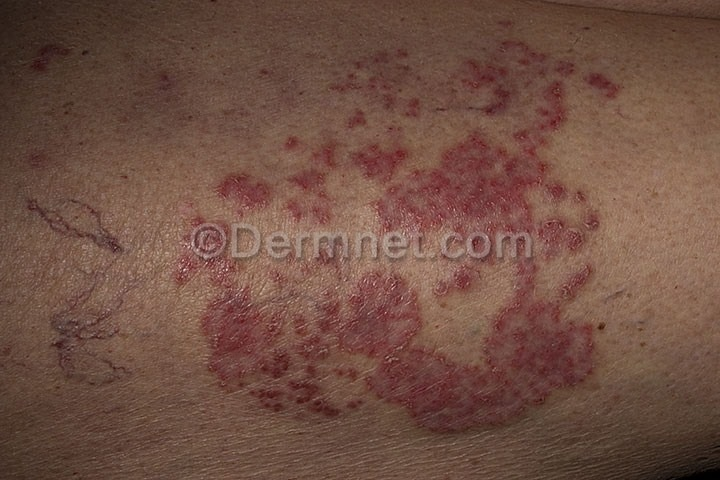Psoriasis: (193, 261, 609, 439), (308, 51, 634, 269)
